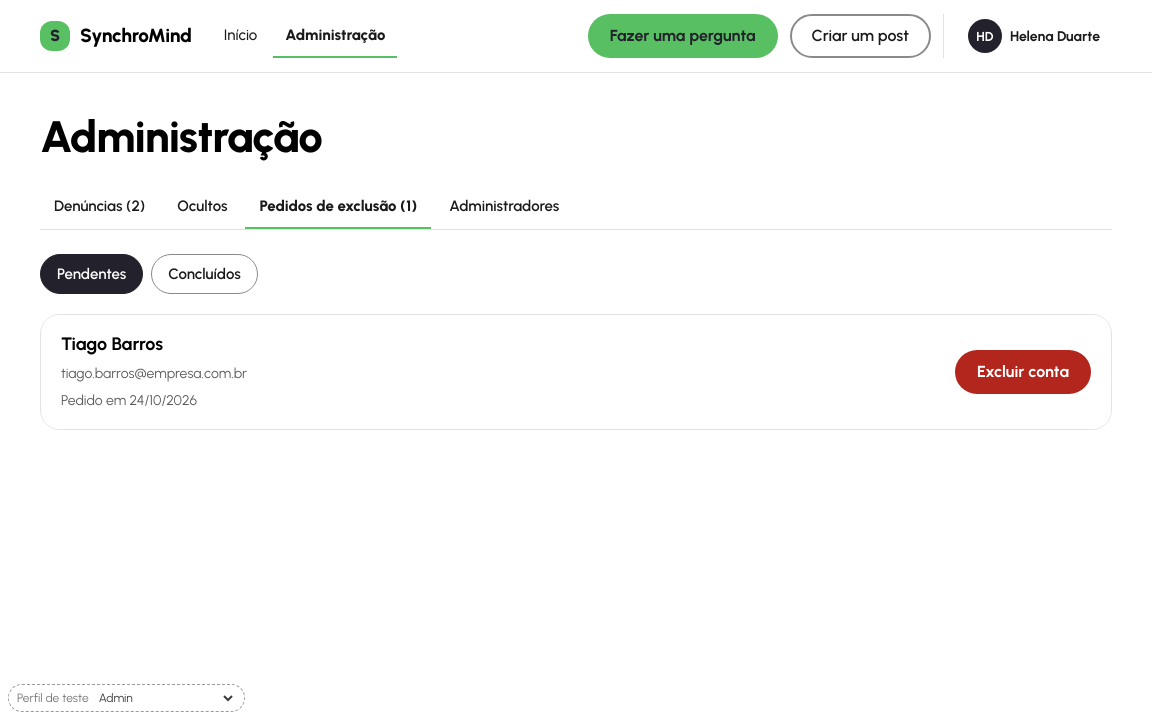
aba Pedidos de exclusão (HU-05) › mostra o pedido pendente com nome, e-mail e data; confirma e conclui sem dados pessoais
Expected: the heading "Administração" is shown, [40,110,322,163]
Expected: the text "tiago.barros@empresa.com.br" is shown, [61,365,247,382]
Click the button "Excluir conta": x=1023, y=372 [955,350,1091,394]
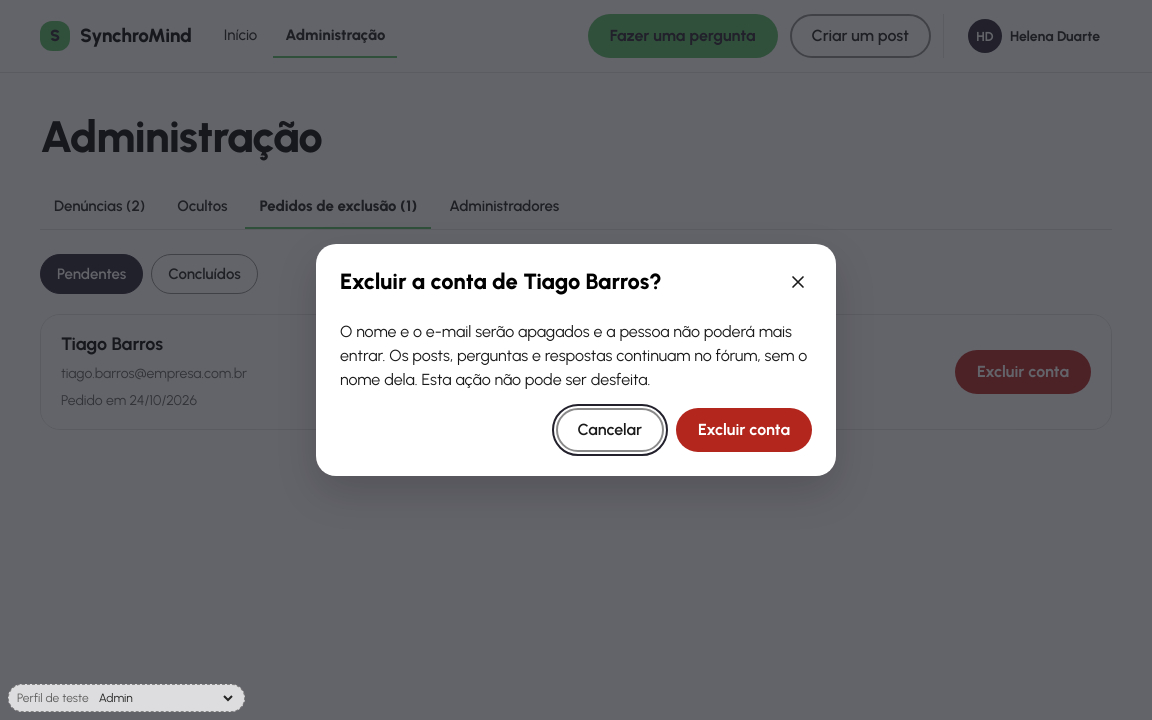
Expected: the text "esta ação não pode ser desfeita" is shown, [340,322,807,389]
Click the button "Excluir conta": x=744, y=430 [676,408,812,452]
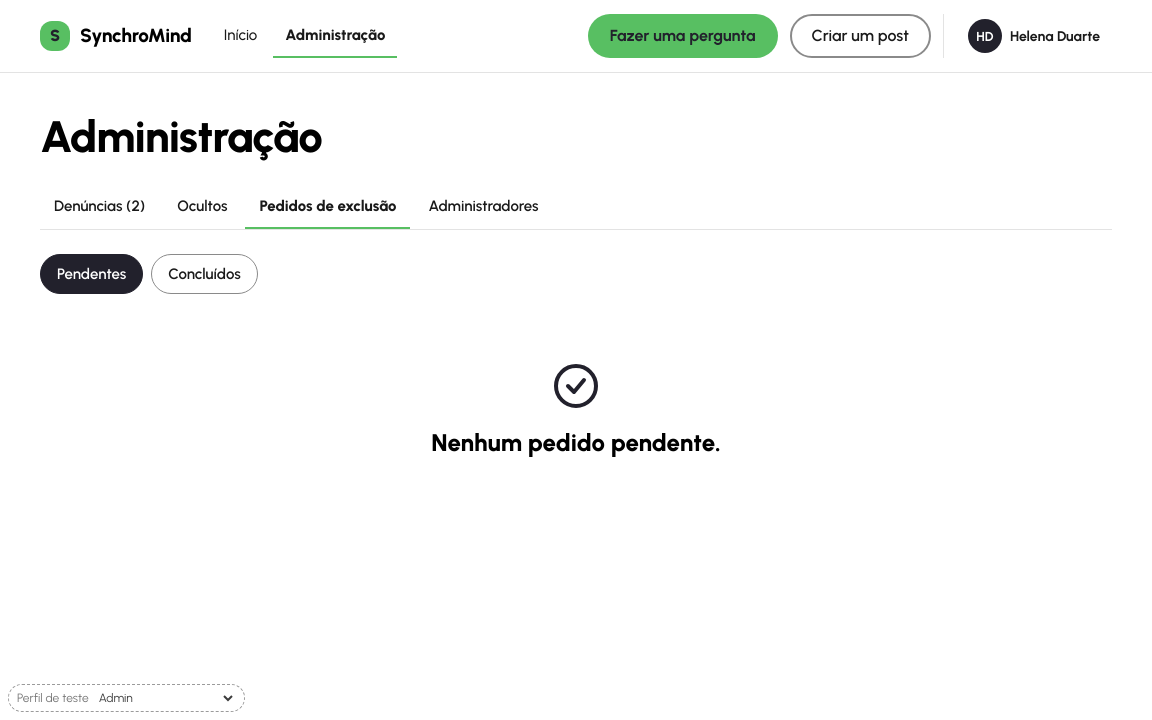
Expected: the heading "Nenhum pedido pendente." is shown, [431,429,721,458]
Click the radio button labelled "Concluídos": x=205, y=274 [151,254,258,294]
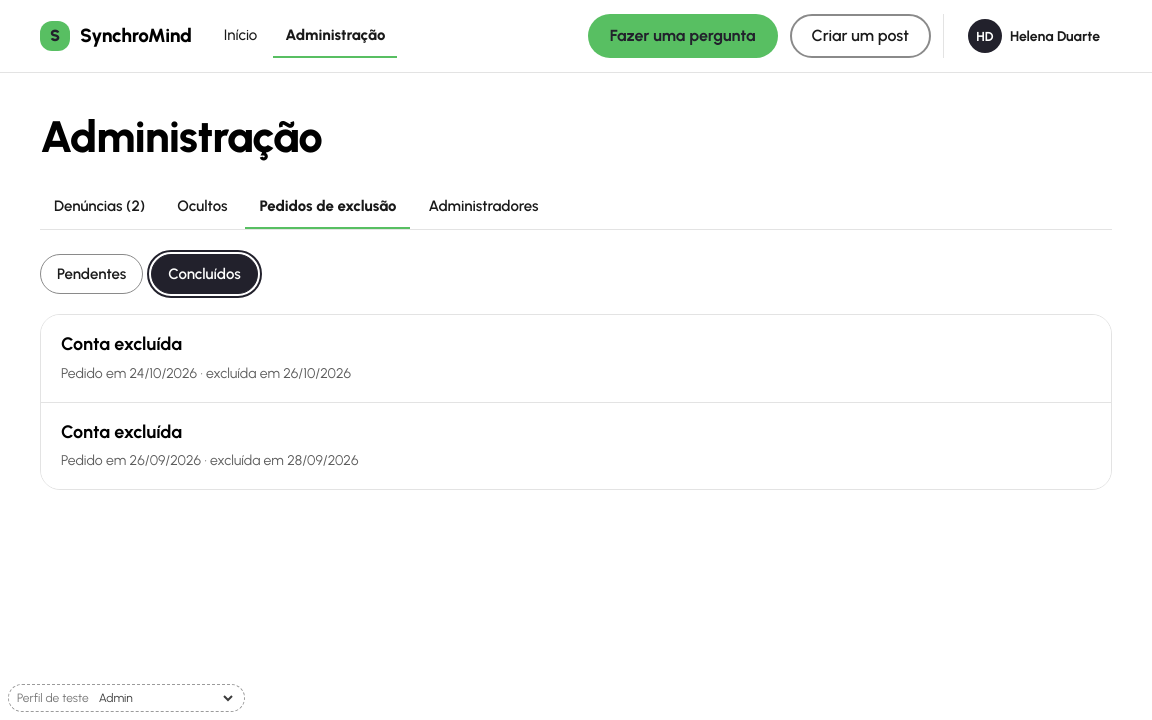
Expected: the heading "Tiago Barros" is not shown
Expected: the number of headings "Conta excluída" is 2, [61,333,182,355]; [61,421,182,443]
